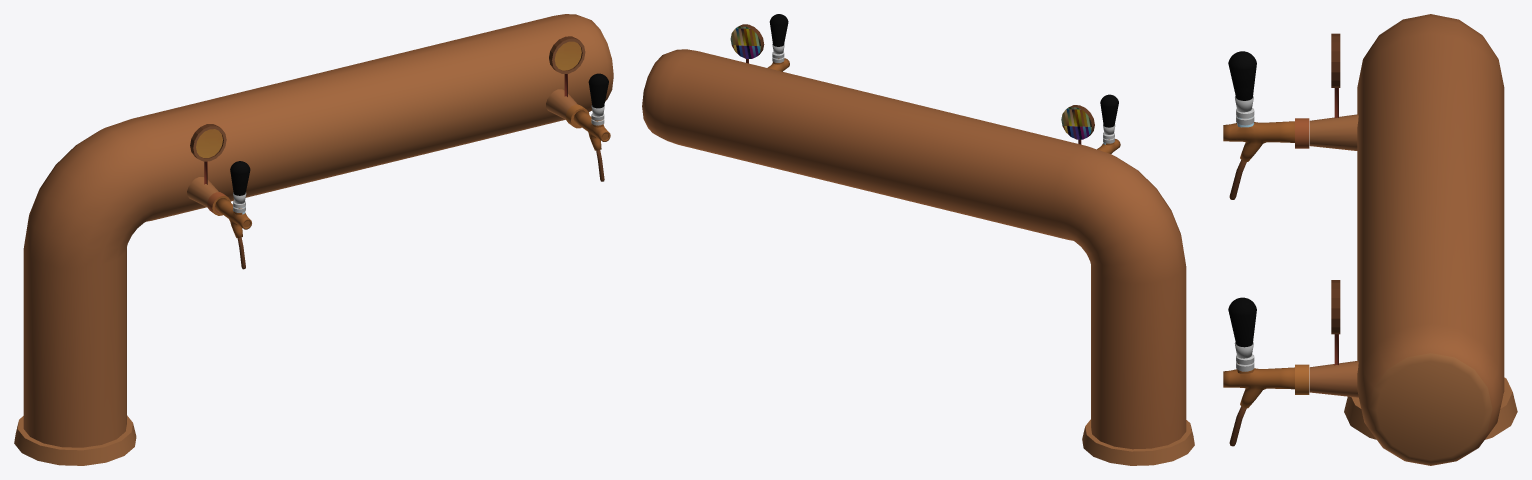
Rendered from kranik.fbx.
3 renders of one model, left to right at view 1: azimuth 30°, elevation 25°; view 2: azimuth 150°, elevation 25°; view 3: azimuth 270°, elevation 25°, orthographic. The views are drawn at different scales.
Visible parts, largest first — view 1: Cylinder; view 2: Cylinder; view 3: Cylinder.
Boxes of the visible parts, x1,y1,x2,y2 form: Cylinder: (14, 14, 613, 465); Cylinder: (642, 14, 1194, 465); Cylinder: (1223, 14, 1517, 465).
Size of the model in its own units: 285 by 150 by 90.2.
